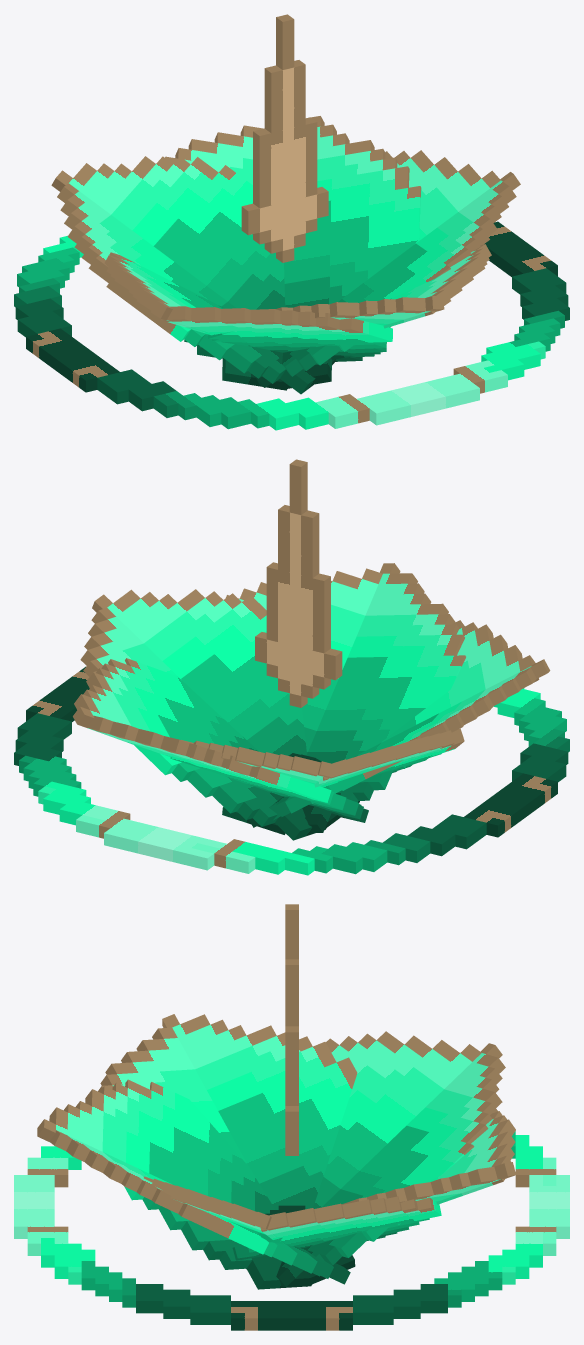
File: 净世莲台.gltf
3 views of the same model, one above another, from view 1: azimuth 30°, elevation 25°; view 2: azimuth 150°, elevation 25°; view 3: azimuth 270°, elevation 25° (orthographic).
Visible parts, largest first — view 1: Group (×5), Object-5, Object-6; view 2: Group (×5), Object-5, Object-6; view 3: Group (×5), Object-5, Object-6.
Boxes of the visible parts, x1,y1,x2,y2 form: Group (×5): [51, 116, 520, 394]; Object-5: [14, 221, 569, 430]; Object-6: [241, 14, 328, 262]; Group (×5): [73, 563, 550, 840]; Object-5: [14, 666, 569, 875]; Object-6: [255, 459, 342, 707]; Group (×5): [37, 1014, 515, 1289]; Object-5: [14, 1131, 569, 1330]; Object-6: [285, 904, 298, 1155].
Size of the model in its own units: 41 by 30.4 by 41.
Materials: 1 (1 with a texture image).
